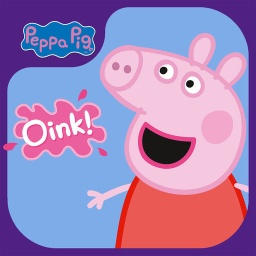Peppa: (85, 30, 251, 250)
